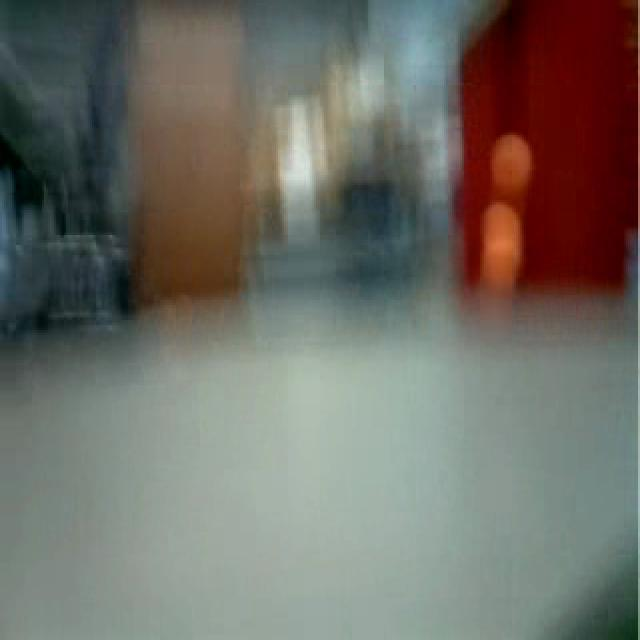ping-pong-ball: (475, 209, 535, 287), (486, 131, 532, 192)
